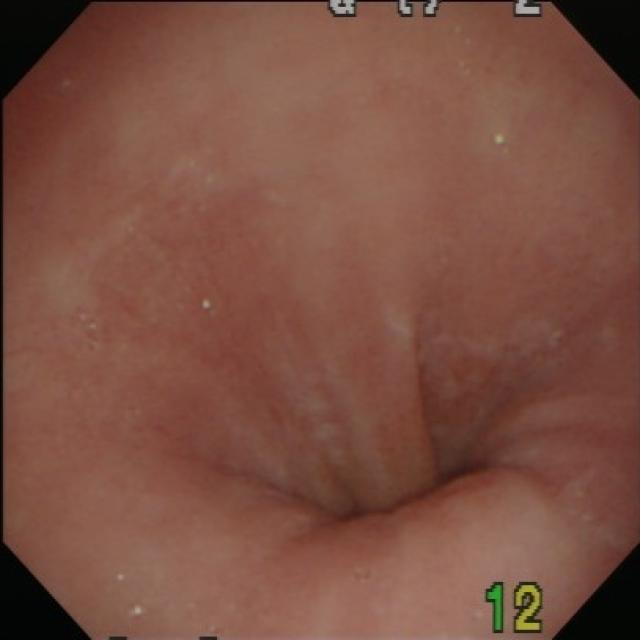I: (267, 391, 523, 561)
J: (420, 316, 571, 386), (558, 463, 640, 550)
S: (325, 3, 545, 20), (485, 581, 547, 636)
T: (67, 306, 106, 354)
U: (493, 131, 509, 150), (128, 603, 146, 619), (199, 299, 213, 314)
